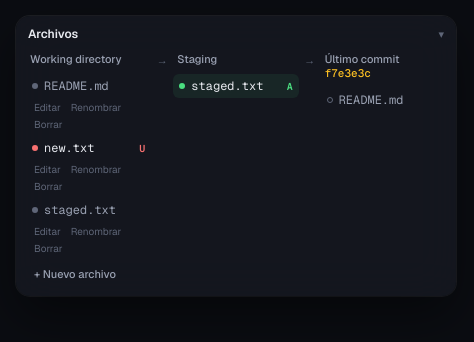
Test case: FilesStrip / per-file actions › Renombrar shows an inline Spanish error and keeps the input open when the engine rejects it
The width and height of the screenshot is (474, 342).
Click the button with aria-label "Renombrar new.txt" at (96, 170), box [67,162,125,177]
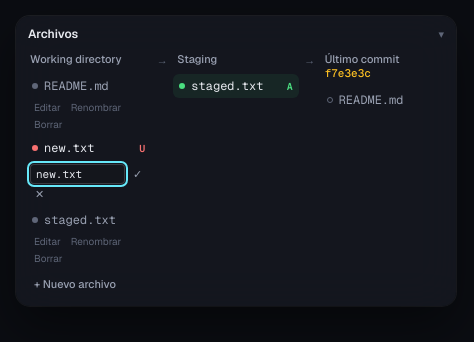
Replace the text in the field named "Nuevo nombre para new.txt" with "staged.txt" at (78, 174), box [30,164,125,184]
Then press Enter
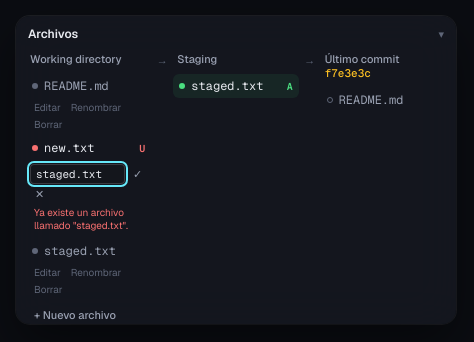
expect the text "Ya existe un archivo llamado \"staged.txt\"." is shown: met, box [34,206,128,232]
